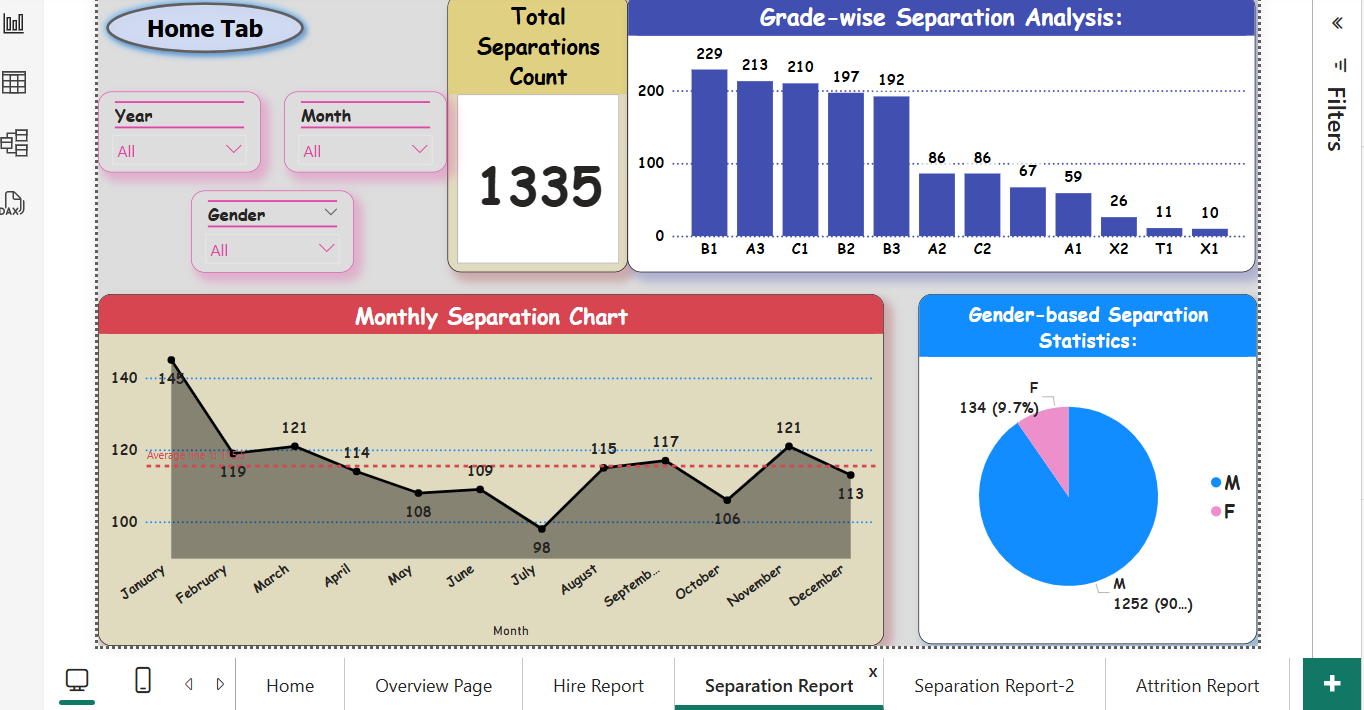

Layout of this report page (visuals, bound fields, positions):
{"tool":"powerbi","page":{"name":"Separation Report","canvas":[1280,720],"ordinal":3},"visuals":[{"type":"cardVisual","title":"Total Separations Count ","fields":{"Data":["Count(Hiretermination.Group Person ID)"]},"box":[385.4,0,199.2,307.7],"z":0},{"type":"lineChart","title":"Monthly Separation Chart","fields":{"Y":["CountNonNull(Hiretermination.Employee Status)"],"Category":["Hiretermination.Termination Date.Variation.Date Hierarchy.Month"]},"box":[0,331.9,867.9,388.6],"z":1000},{"type":"pieChart","title":"Gender-based Separation Statistics:","fields":{"Y":["CountNonNull(Hiretermination.Employee Status)"],"Category":["Hiretermination.Gender"]},"box":[906.8,331.9,374,387],"z":2000},{"type":"lineStackedColumnComboChart","title":"Grade-wise Separation Analysis:","fields":{"Y":["CountNonNull(Hiretermination.Employee Status)"],"Category":["Hiretermination.Grade"]},"box":[584.5,0,693,307.7],"z":3000},{"type":"slicer","fields":{"Values":["Hiretermination.Termination Date.Variation.Date Hierarchy.Year"]},"box":[0,106.9,179.7,89.1],"z":4000},{"type":"slicer","fields":{"Values":["Hiretermination.Termination Date.Variation.Date Hierarchy.Month"]},"box":[205.6,106.9,179.7,89.1],"z":5000},{"type":"slicer","fields":{"Values":["Hiretermination.Gender"]},"box":[102,217,179.7,90.7],"z":6000},{"type":"actionButton","box":[0,0,236.4,74.5],"z":7000}]}

Visuals, with their boxes on the page's 1280x720 design canvas (x1, y1, x2, y2). These are canvas units, not pixel positions in the 1364x710 screenshot, which may show the page scaled, cropped or inside an application window:
"Total Separations Count " cardVisual: rect(385, 0, 585, 308)
"Monthly Separation Chart" lineChart: rect(0, 332, 868, 720)
"Gender-based Separation Statistics:" pieChart: rect(907, 332, 1281, 719)
"Grade-wise Separation Analysis:" lineStackedColumnComboChart: rect(584, 0, 1278, 308)
slicer - Hiretermination.Termination Date.Variation.Date Hierarchy.Year: rect(0, 107, 180, 196)
slicer - Hiretermination.Termination Date.Variation.Date Hierarchy.Month: rect(206, 107, 385, 196)
slicer - Hiretermination.Gender: rect(102, 217, 282, 308)
actionButton: rect(0, 0, 236, 74)
